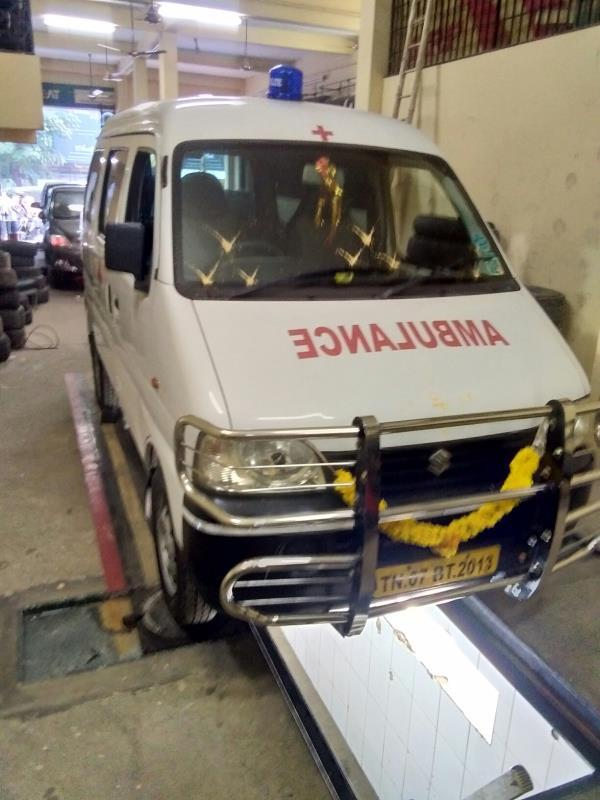Emergency-Vehicles: (36, 65, 600, 630)
